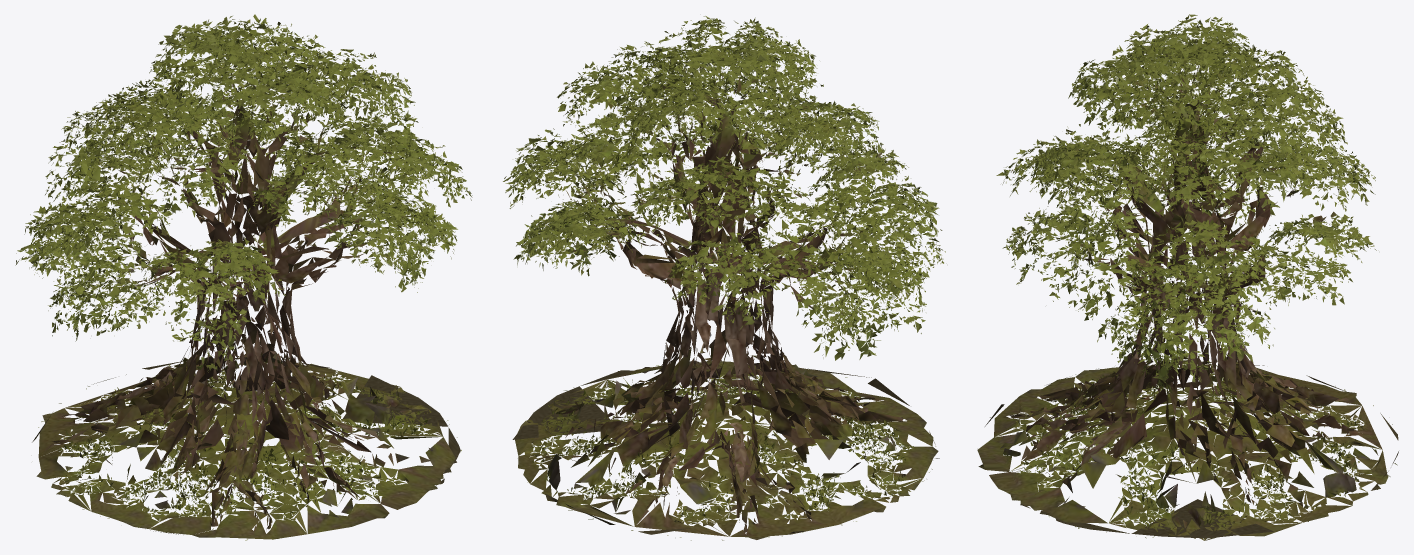
Rendered from tree_woodland_near.glb.
The picture shows the model from 3 angles, left to right: view 1: azimuth 30°, elevation 25°; view 2: azimuth 150°, elevation 25°; view 3: azimuth 270°, elevation 25°; orthographic projection.
Visible parts, largest first — view 1: Mesh_0; view 2: Mesh_0; view 3: Mesh_0.
Boxes of the visible parts, <box> form: Mesh_0: <box>15,14,472,540</box>; Mesh_0: <box>503,16,945,540</box>; Mesh_0: <box>977,14,1398,540</box>.
Bounding box in the file's own units: 1.85 × 1.75 × 1.58.
1 material, 1 textured.
